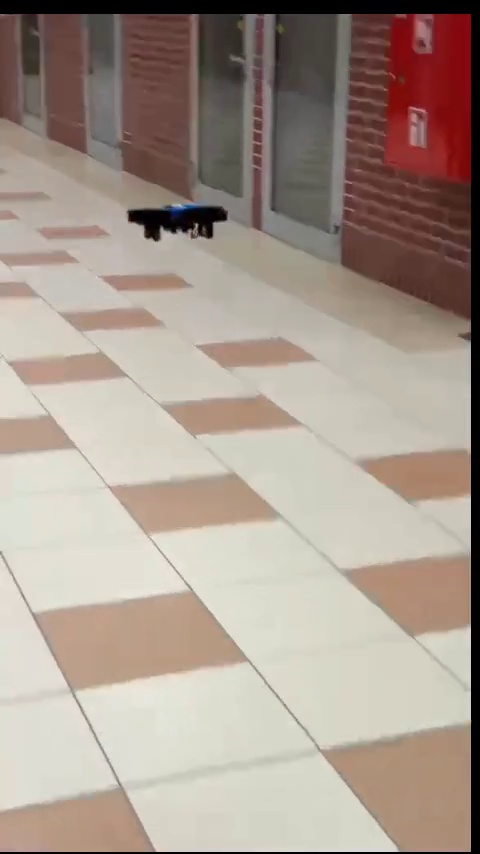drone: (125, 198, 231, 243)
